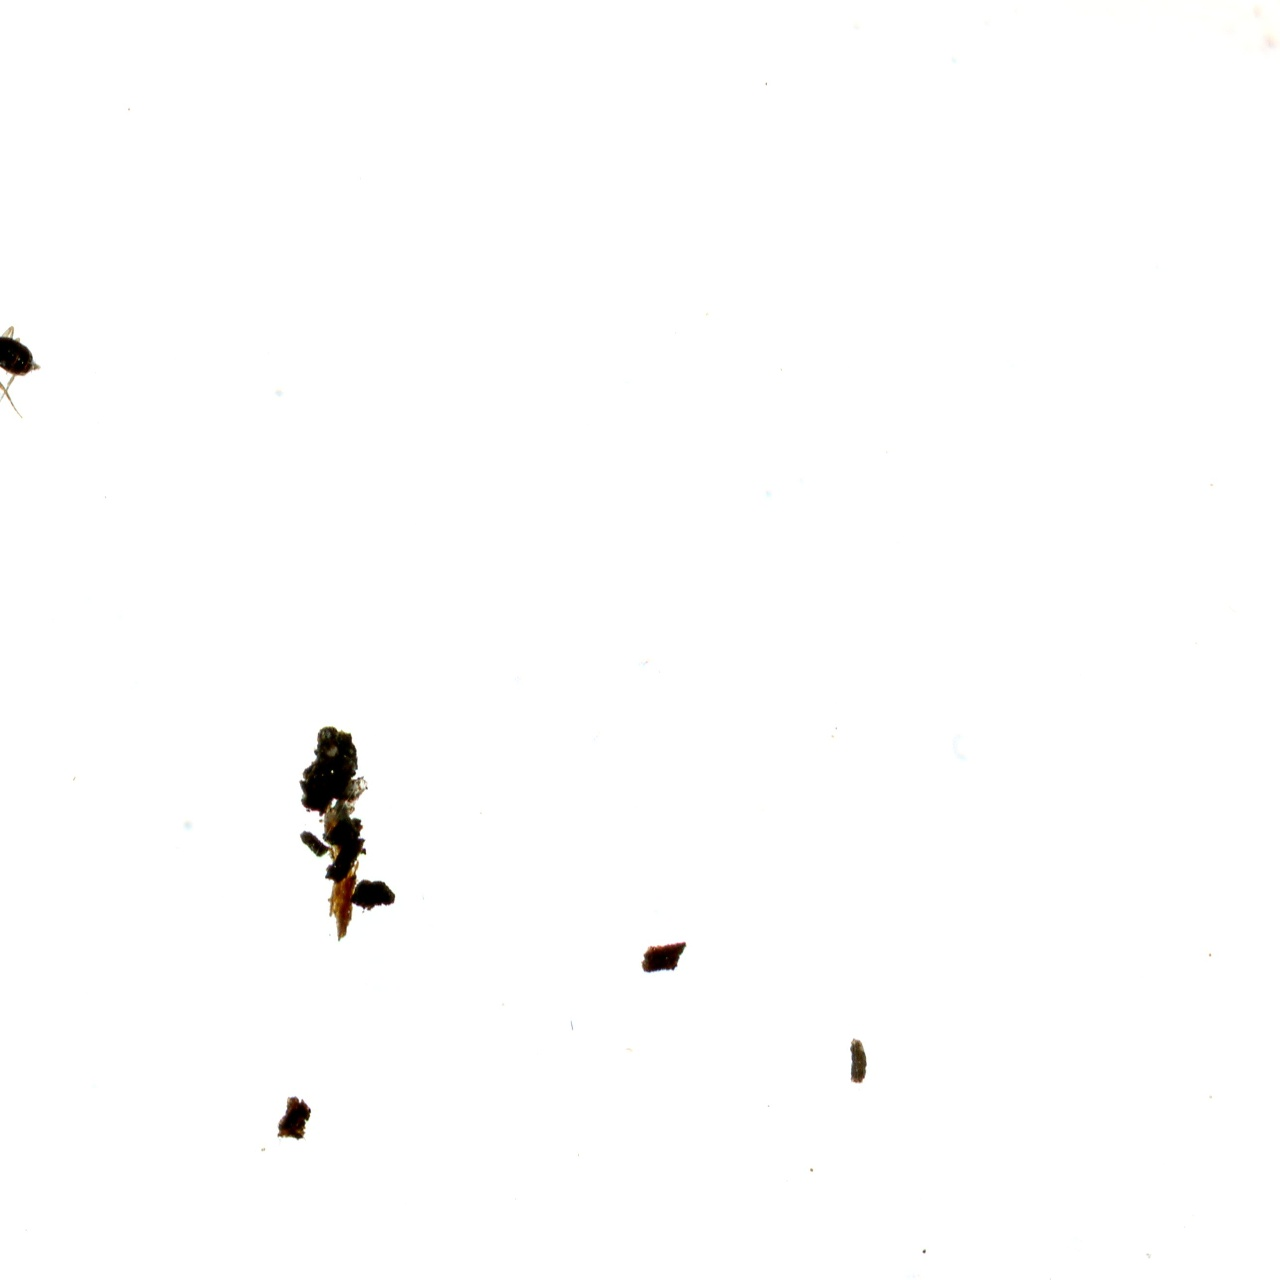arthropod: (0, 313, 45, 421)
